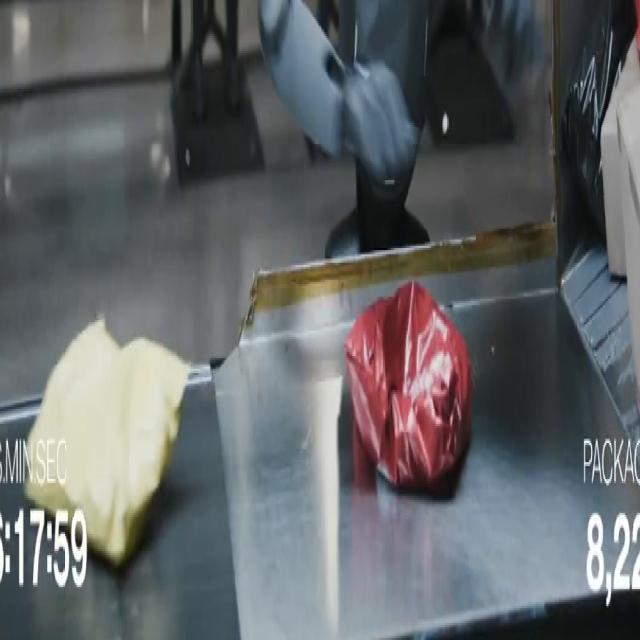package: (25, 320, 188, 567), (345, 282, 471, 495), (562, 0, 636, 235), (601, 43, 639, 277), (619, 87, 639, 400), (636, 0, 639, 57)
